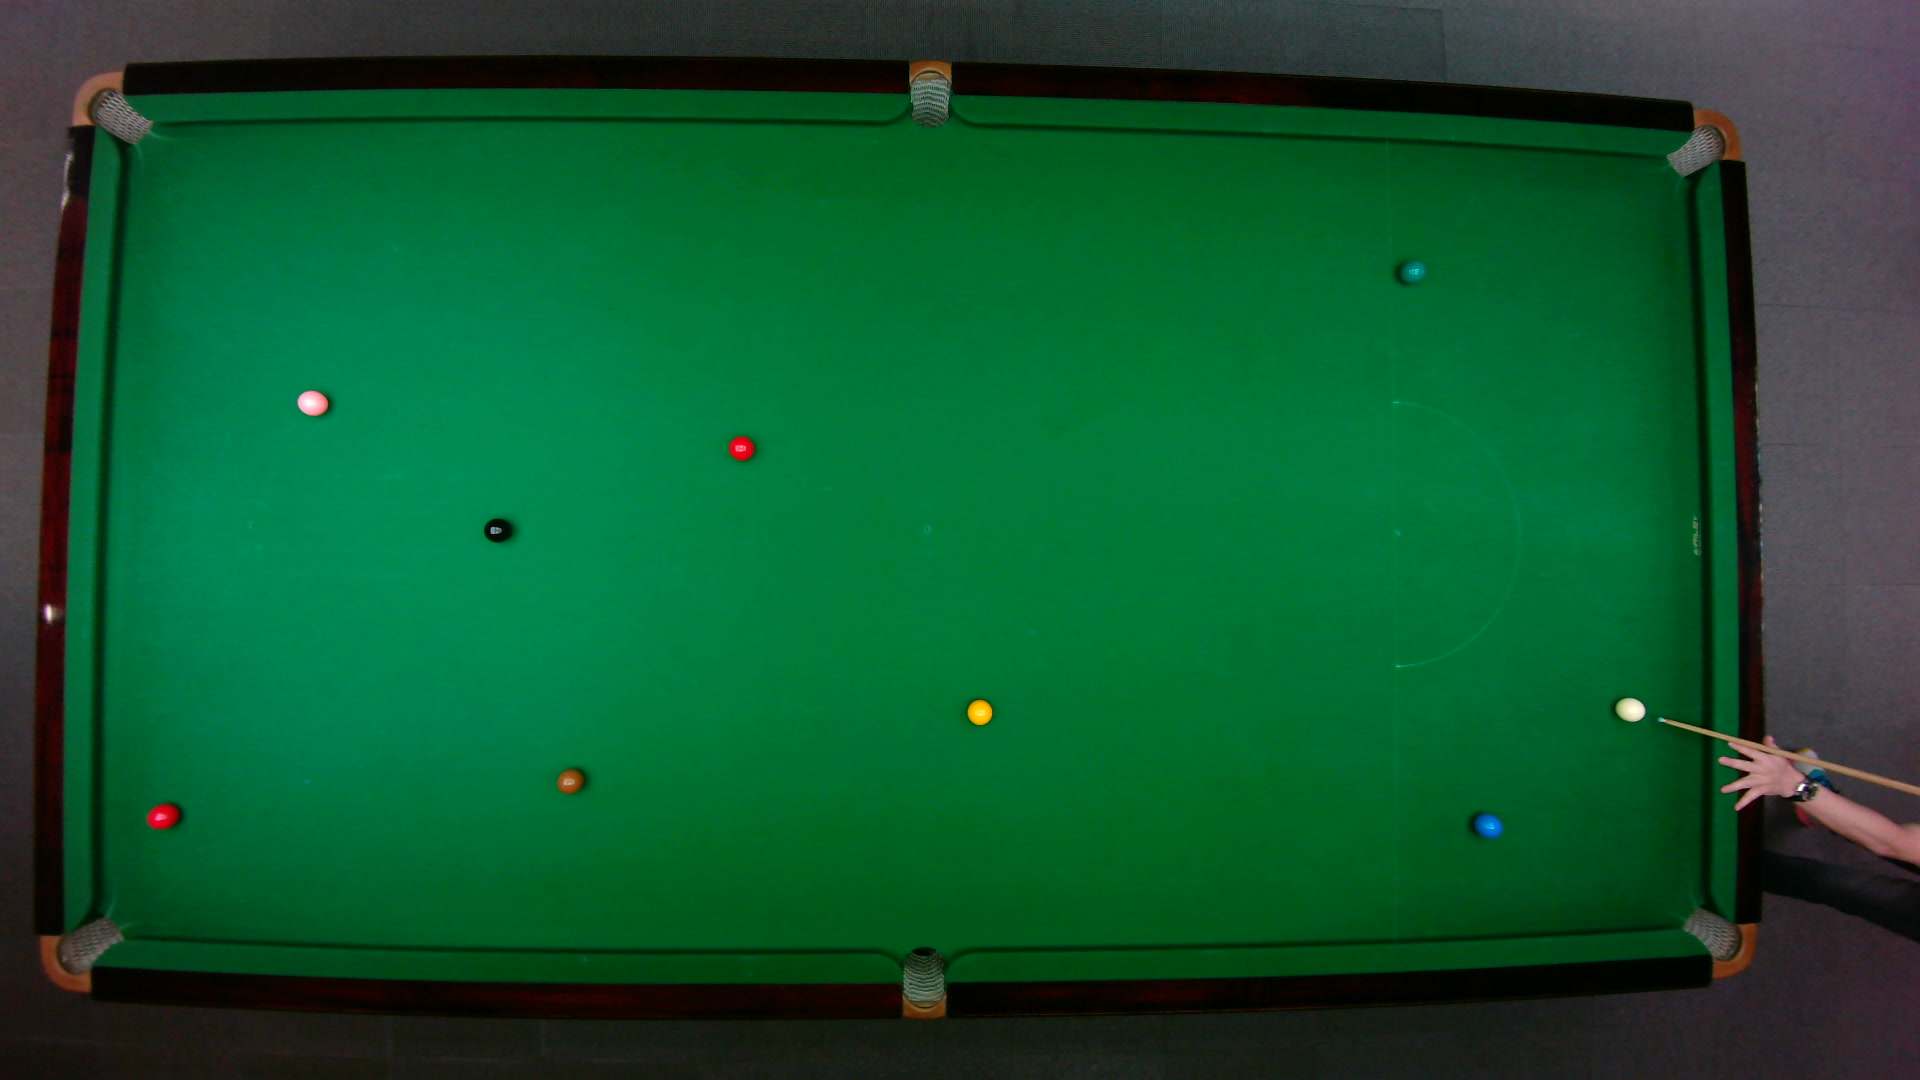bag: (38, 913, 125, 992), (69, 69, 153, 145), (1679, 905, 1758, 978), (1663, 107, 1741, 178), (901, 944, 944, 1021), (909, 57, 949, 128)
black: (483, 516, 512, 542)
blue: (1472, 811, 1503, 839)
brown: (556, 766, 584, 794)
cue: (1655, 713, 1920, 800)
green: (1396, 258, 1425, 284)
pink: (294, 386, 328, 417)
red: (144, 800, 179, 829), (727, 434, 756, 462)
white: (1611, 695, 1646, 723)
yellow: (965, 696, 993, 727)
zone: (1390, 398, 1520, 669)
